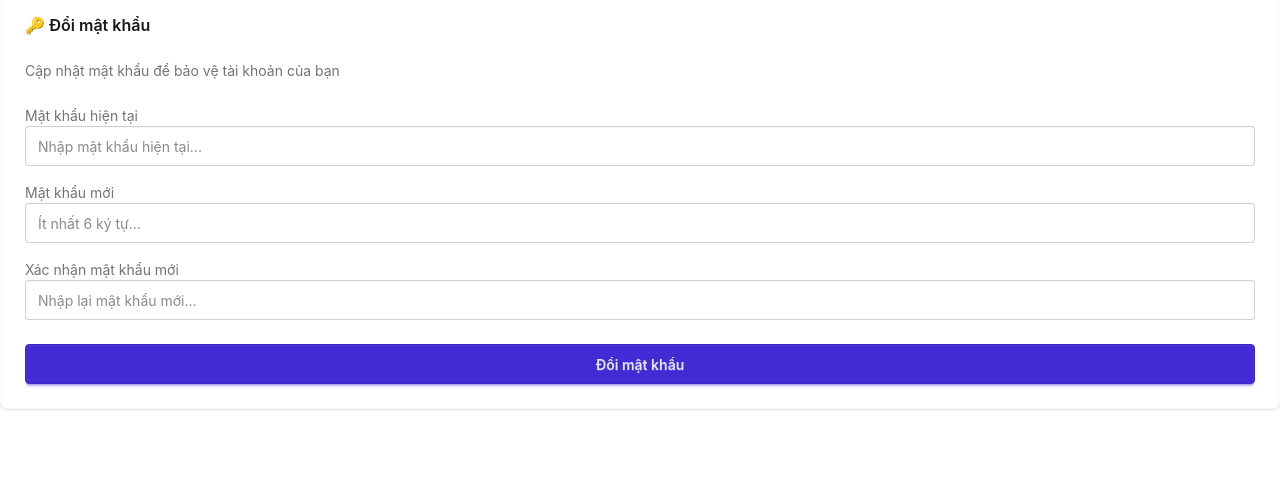
Test: ChangePasswordForm › shows server error when changePassword fails
Type "WrongOld1" into the password field labelled "Mật khẩu hiện tại" at (640, 146), box 25,126 -> 1255,166
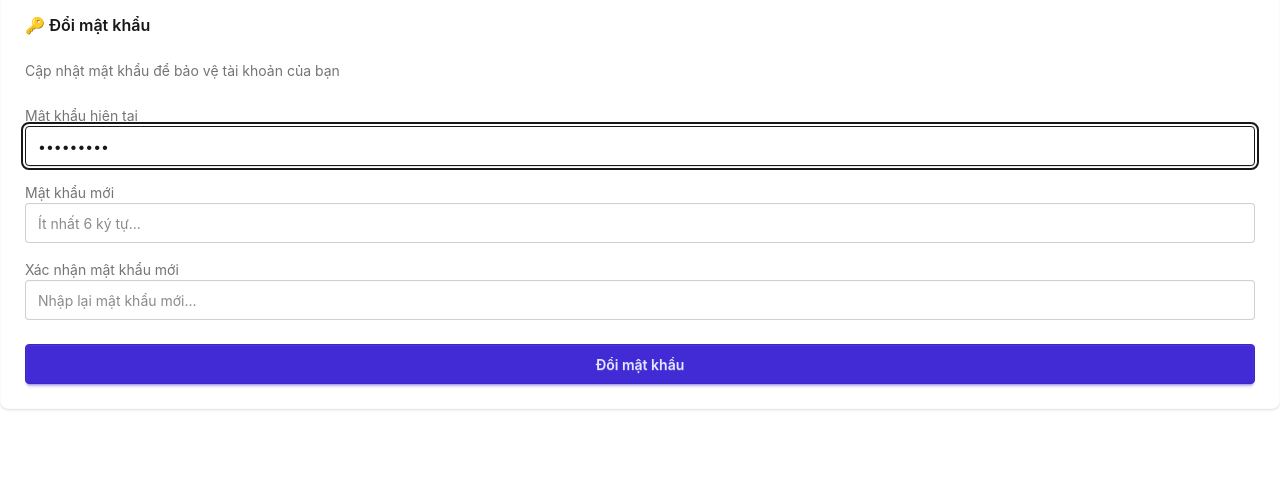
Type "NewValid1#" into the password field labelled "Mật khẩu mới" at (640, 223), box 25,203 -> 1255,243
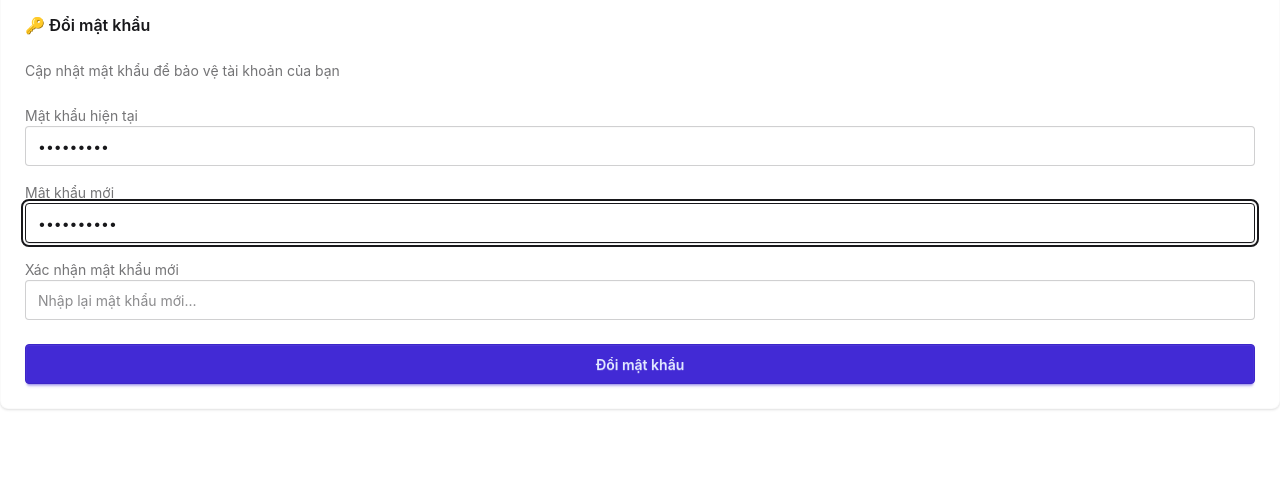
Type "NewValid1#" into the password field labelled "Xác nhận mật khẩu mới" at (640, 300), box 25,280 -> 1255,320
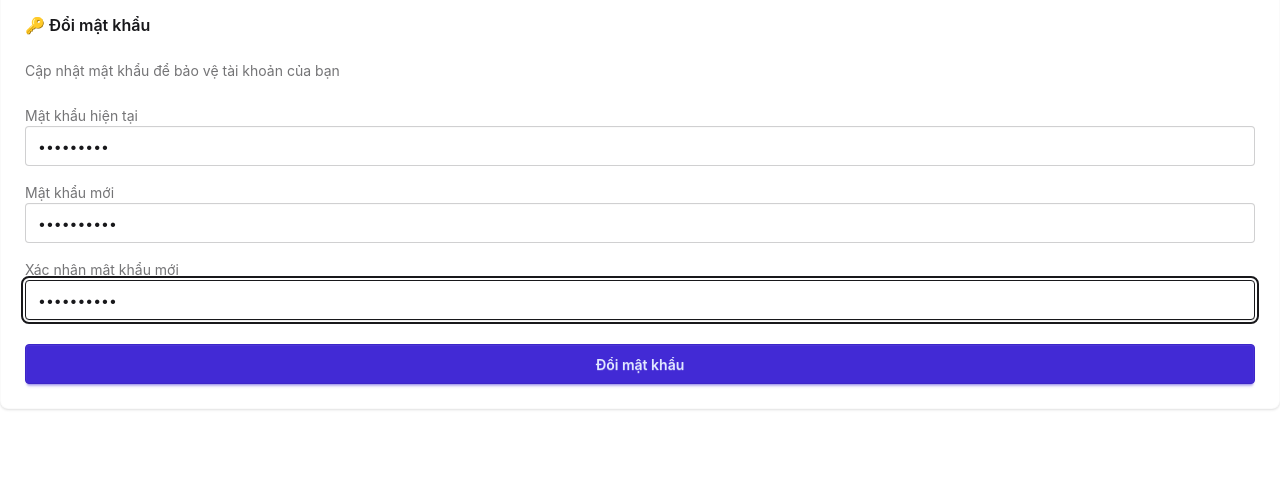
Click the button "Đổi mật khẩu" at (640, 364), box 25,344 -> 1255,384
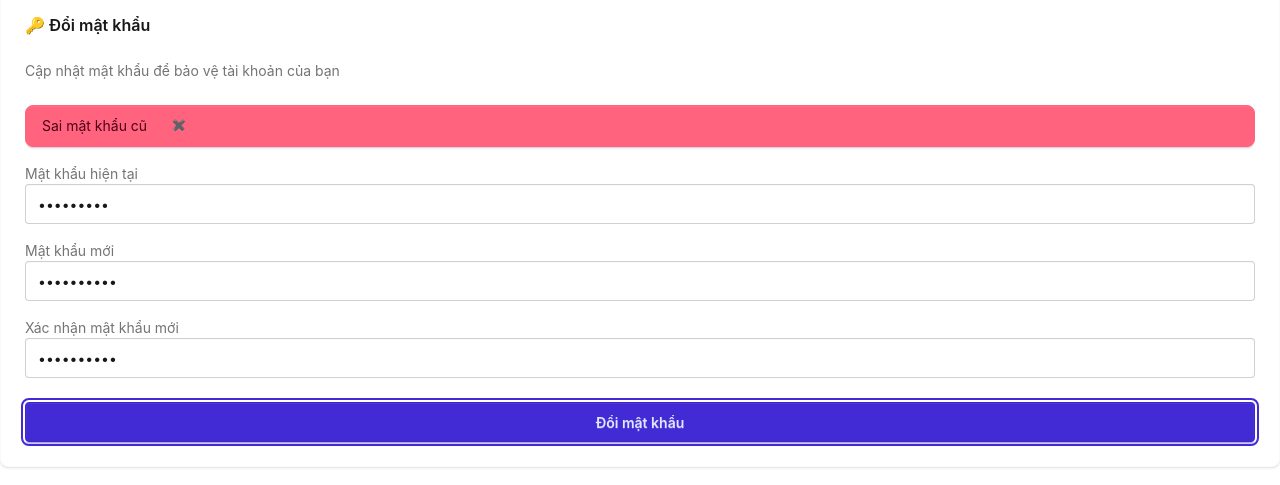
Check: the text "Sai mật khẩu cũ" is shown, box 42,116 -> 147,136
